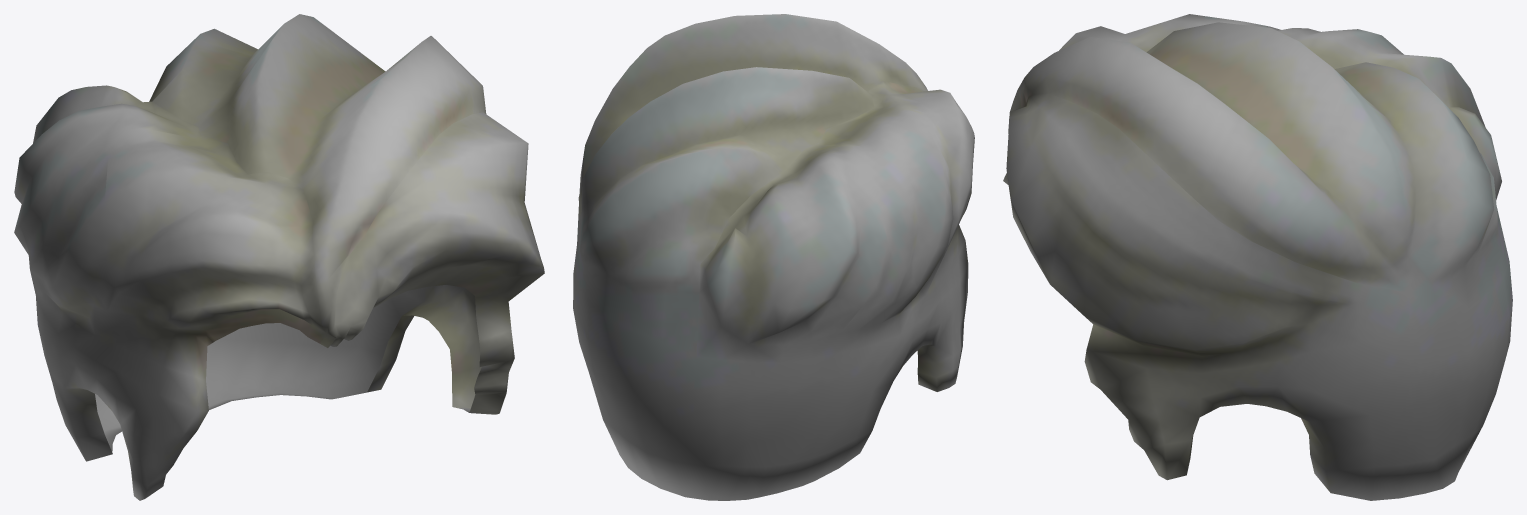
Rendered from hair.simple-parted.hair-2.gltf.
3 renders of one model, left to right at view 1: azimuth 30°, elevation 25°; view 2: azimuth 150°, elevation 25°; view 3: azimuth 270°, elevation 25°, orthographic. The views are drawn at different scales.
Parts seen in each view (by area): view 1: Hair_SimpleParted; view 2: Hair_SimpleParted; view 3: Hair_SimpleParted.
Part boxes in pixels (x1,y1,x2,y2): Hair_SimpleParted: (14,14,544,500); Hair_SimpleParted: (573,14,974,500); Hair_SimpleParted: (1003,14,1512,500).
Bounding box in the file's own units: 0.1754 × 0.1791 × 0.1869.
Materials: 1 (1 with a texture image).
